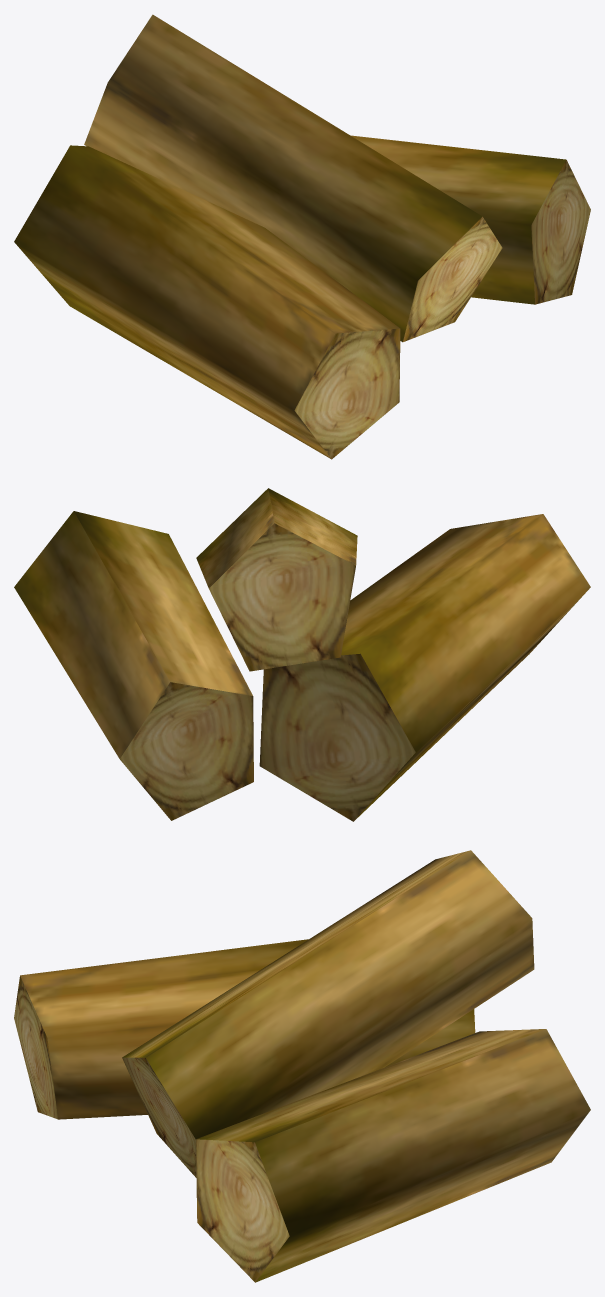
The model's file is firewoodpile03.obj.
3 renders of one model, top to bottom at view 1: azimuth 30°, elevation 25°; view 2: azimuth 150°, elevation 25°; view 3: azimuth 270°, elevation 25°, orthographic.
Parts seen in each view (by area): view 1: FIREWOODPILE030; view 2: FIREWOODPILE030; view 3: FIREWOODPILE030.
Part boxes in pixels (box(x1,y1,x2,y2)): FIREWOODPILE030: box(14, 14, 590, 459); FIREWOODPILE030: box(14, 488, 590, 821); FIREWOODPILE030: box(14, 850, 590, 1282).
Bounding box in the file's own units: 1.62 × 0.8888 × 1.65.
1 material, 1 textured.
